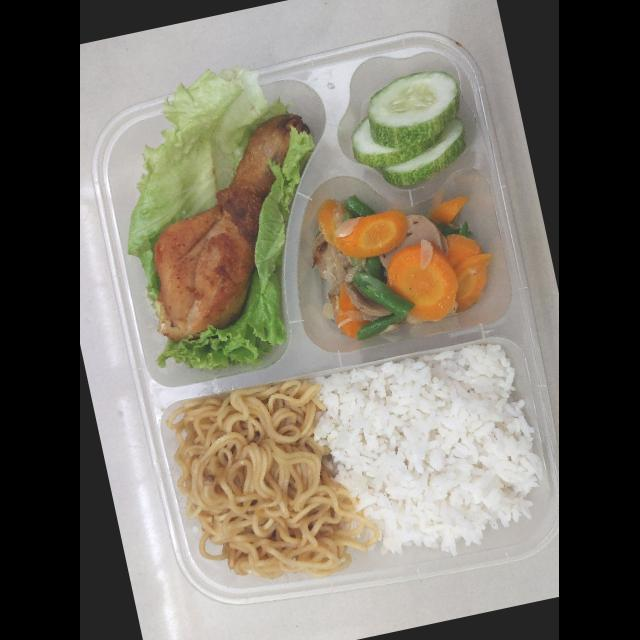bento: (80, 7, 560, 637)
